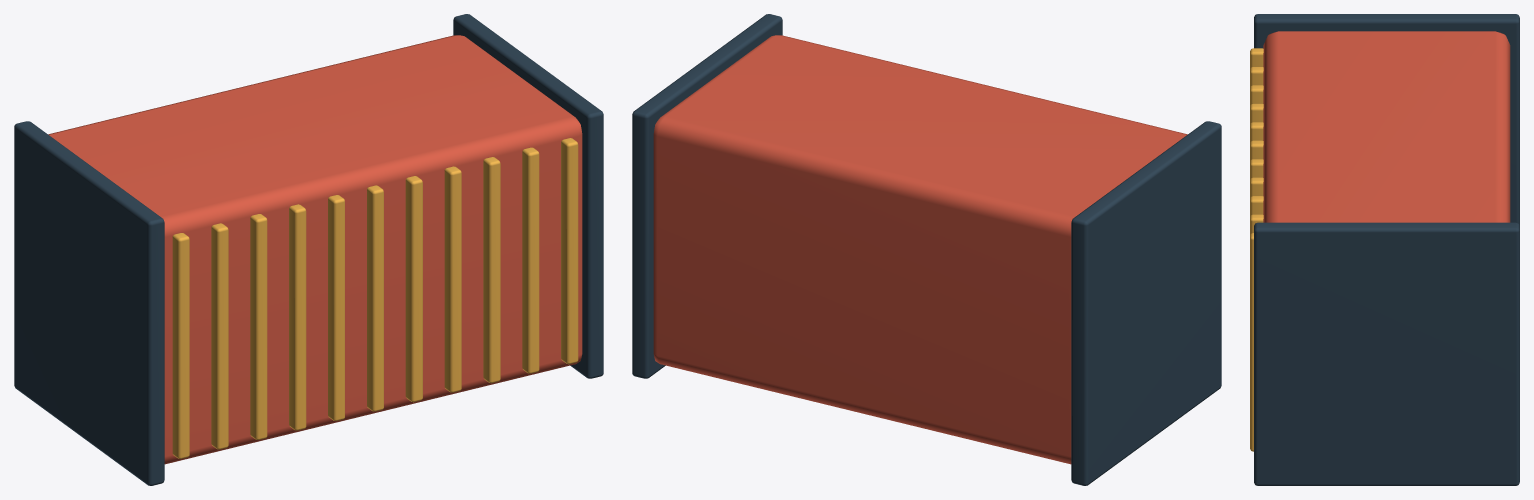
Rendered from Container.fbx.
3 renders of one model, left to right at view 1: azimuth 30°, elevation 25°; view 2: azimuth 150°, elevation 25°; view 3: azimuth 270°, elevation 25°, orthographic. The views are drawn at different scales.
Parts seen in each view (by area): view 1: Container_Static; view 2: Container_Static; view 3: Container_Static.
Boxes of the visible parts, left/top/right/bottom form: Container_Static: left=14, top=14, right=603, bottom=485; Container_Static: left=632, top=14, right=1221, bottom=485; Container_Static: left=1250, top=14, right=1519, bottom=485.
Bounding box in the file's own units: 2.7 × 1.5 × 1.42.
1 material, 1 textured.
